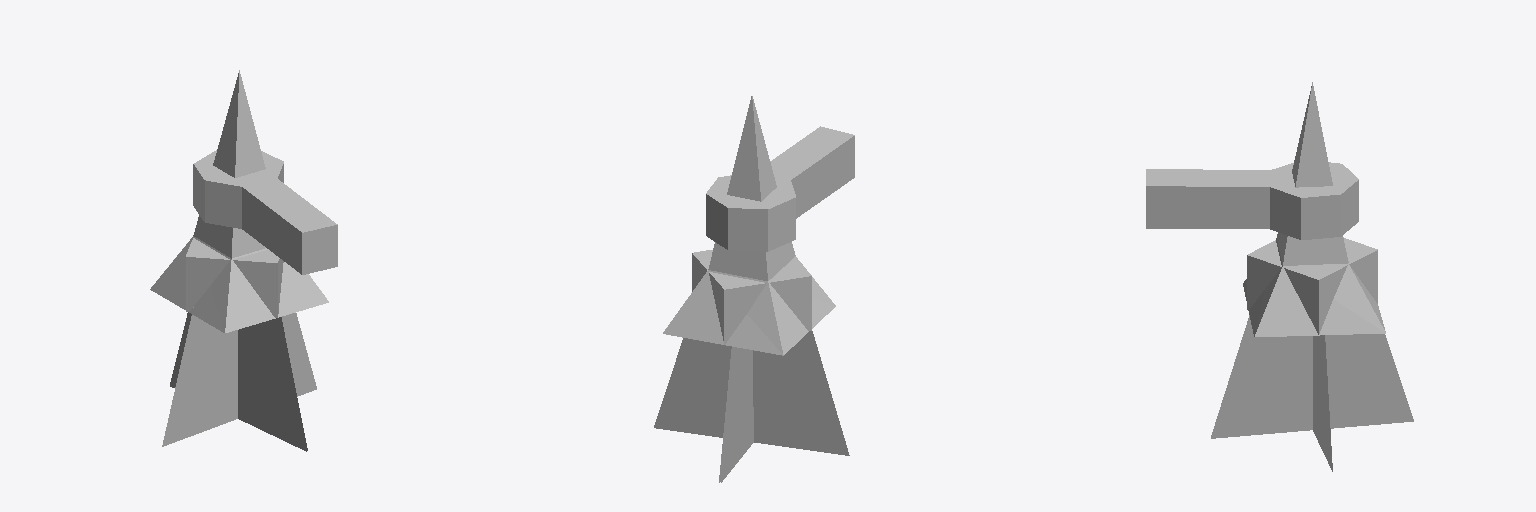
File: antorcha_000030.obj
3 renders of one model, left to right at view 1: azimuth 30°, elevation 25°; view 2: azimuth 150°, elevation 25°; view 3: azimuth 270°, elevation 25°, orthographic.
Visible parts, largest first — view 1: Cylinder; view 2: Cylinder; view 3: Cylinder.
Boxes of the visible parts, <box> form: Cylinder: <box>150,70,337,451</box>; Cylinder: <box>654,96,854,482</box>; Cylinder: <box>1146,82,1413,471</box>.
Bounding box in the file's own units: 17.06 × 32.31 × 22.56.